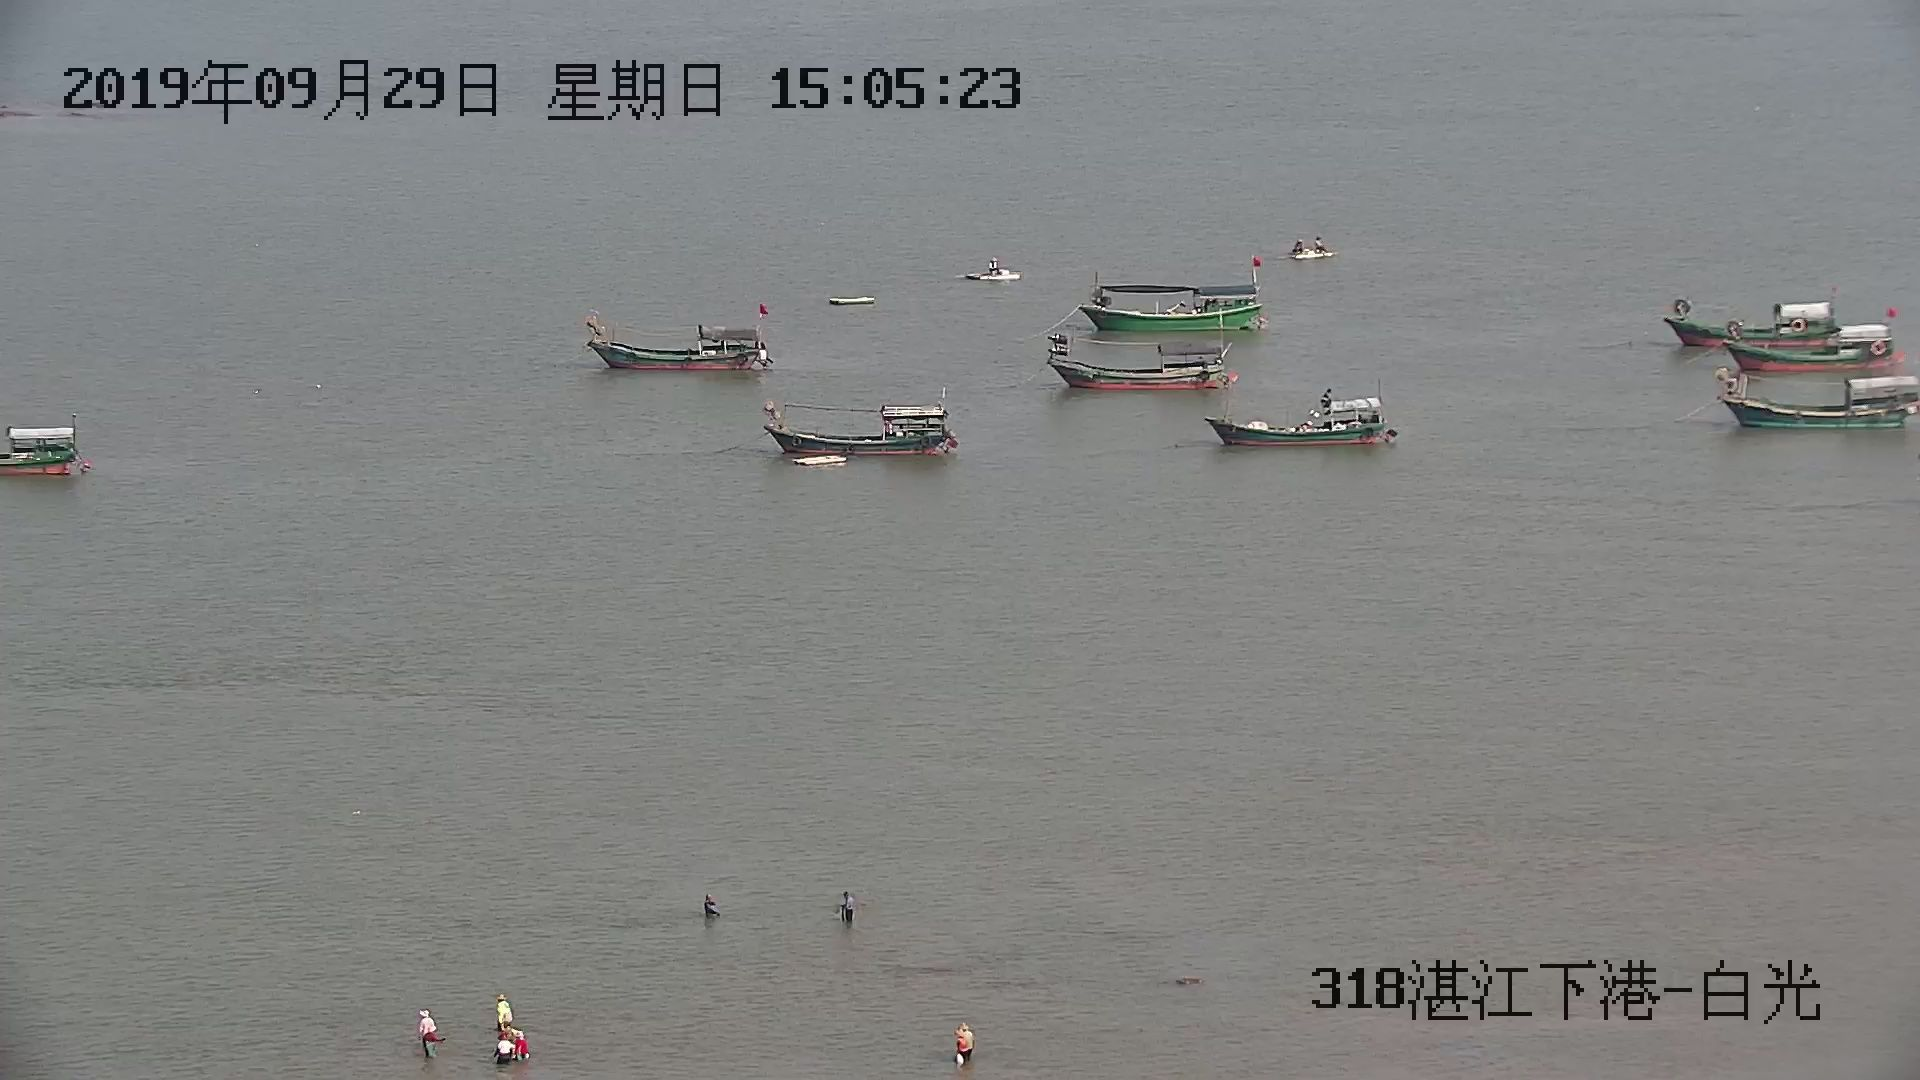ship: (1065, 253, 1271, 347), (1662, 293, 1894, 372), (762, 381, 963, 467), (1042, 316, 1245, 397), (1208, 378, 1396, 452), (582, 309, 770, 375), (1717, 377, 1917, 435), (1, 417, 80, 485)
